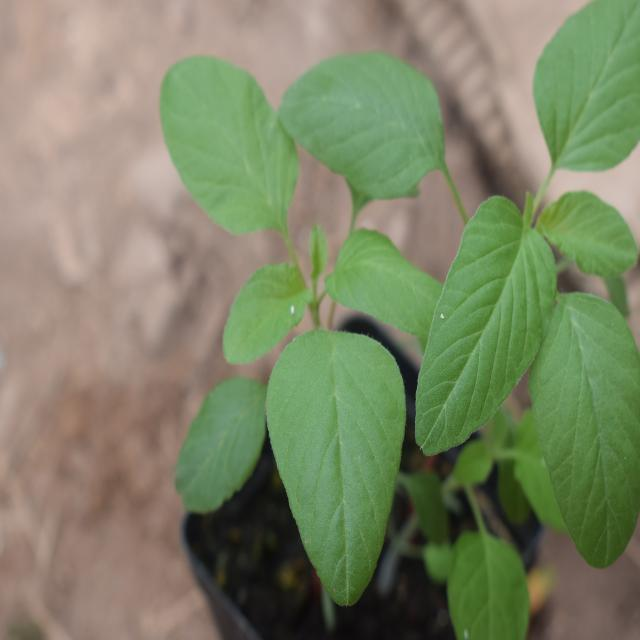pigweed: (160, 40, 450, 557), (434, 0, 633, 572)
